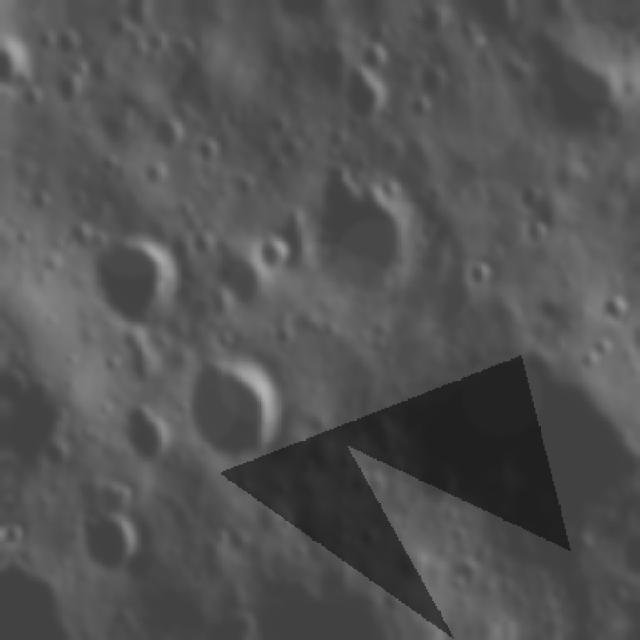crater: (407, 337, 640, 528), (307, 173, 424, 309), (180, 358, 298, 473), (530, 28, 630, 148), (89, 230, 193, 342), (73, 502, 147, 586), (210, 247, 276, 321), (117, 397, 177, 474), (401, 456, 464, 518), (337, 58, 392, 127), (140, 102, 192, 162), (351, 404, 400, 458), (0, 23, 38, 92), (48, 68, 95, 120), (250, 230, 299, 278), (514, 215, 561, 259), (462, 254, 504, 300), (30, 430, 73, 473), (413, 0, 456, 42), (163, 28, 205, 70), (50, 21, 90, 65), (192, 135, 228, 180), (225, 168, 263, 206), (405, 86, 437, 131), (594, 288, 634, 323), (615, 529, 640, 582), (511, 181, 546, 217), (26, 186, 59, 220), (16, 73, 44, 113), (124, 358, 156, 389), (378, 586, 407, 620), (262, 110, 292, 141), (262, 148, 292, 178), (146, 28, 172, 62), (95, 146, 123, 174), (589, 333, 617, 359), (234, 98, 261, 124)
